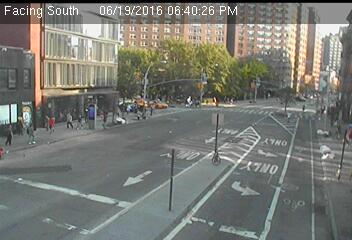neg: (261, 115, 280, 142), (177, 127, 194, 151), (290, 41, 308, 63), (125, 137, 141, 159), (260, 52, 276, 73), (173, 63, 188, 84), (326, 45, 341, 66), (226, 60, 236, 73)
pos: (24, 121, 42, 145), (2, 122, 19, 145), (47, 114, 63, 135), (74, 110, 89, 130), (63, 110, 77, 129), (132, 107, 141, 120)
